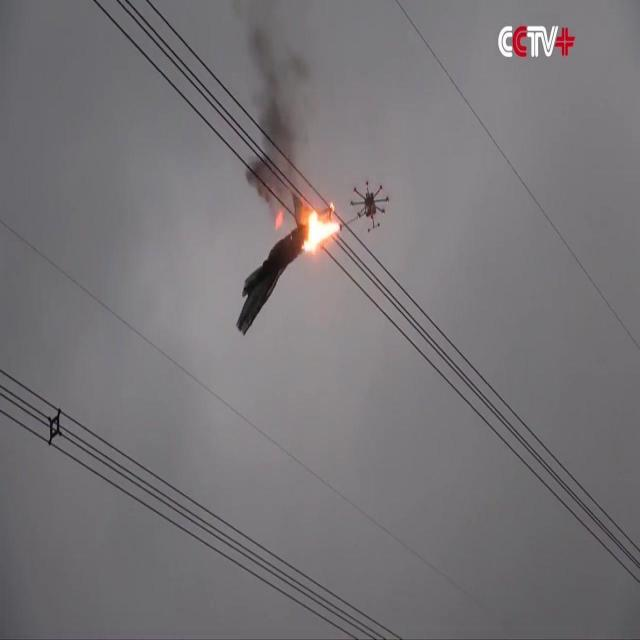UAV: (339, 180, 389, 233)
